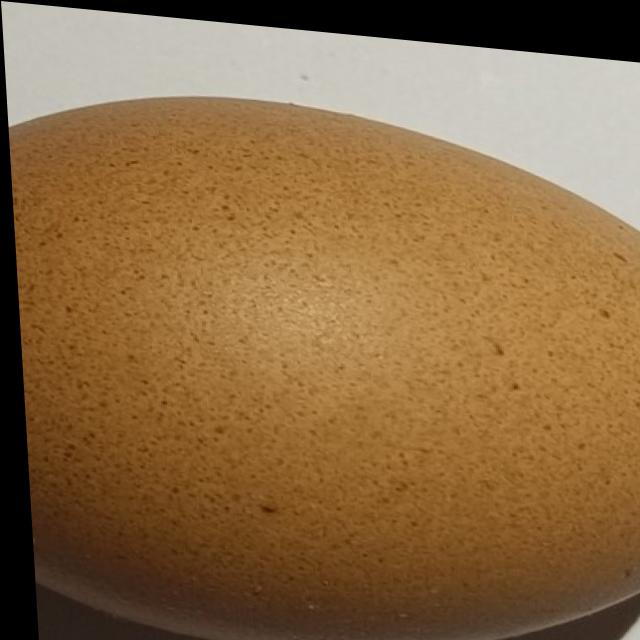unfresh: (3, 75, 640, 640)
